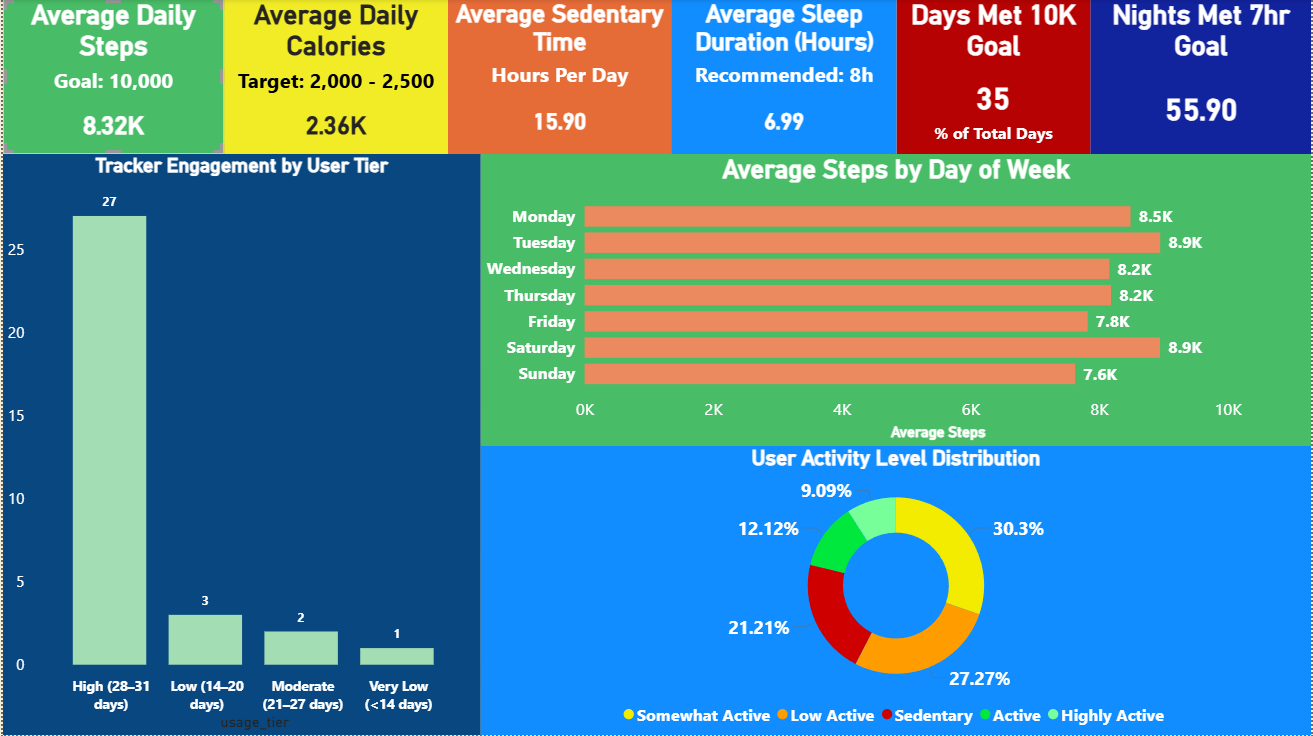

The page's visual inventory and layout, read from the dashboard file:
{"tool":"powerbi","page":{"name":"Executive Overview","canvas":[1280,720],"ordinal":0},"visuals":[{"type":"card","title":"Average Daily Steps","fields":{"Values":["Avg(activity_summary.avg_daily_steps)"]},"box":[0,0,216.4,151.6],"z":0},{"type":"card","title":"Average Daily Calories","fields":{"Values":["Avg(activity_summary.avg_daily_calories)"]},"box":[216.4,0,218.9,151.6],"z":1000},{"type":"card","title":"Average Sedentary Time","fields":{"Values":["Sum(activity_summary.avg_sedentary_hours)"]},"box":[435.3,0,218.9,151.6],"z":2000},{"type":"card","title":"Average Sleep Duration (Hours)","fields":{"Values":["Avg(sleep_summary.avg_sleep_hours)"]},"box":[654.2,0,220.1,151.6],"z":3000},{"type":"card","title":"Days Met 10K Goal","fields":{"Values":["Sum(activity_summary.pct_days_met_10k_goal)"]},"box":[874.3,0,189.5,151.6],"z":4000},{"type":"card","title":"Nights Met 7hr Goal","fields":{"Values":["Avg(sleep_summary.pct_met_7hr_goal)"]},"box":[1063.9,0,216.4,151.6],"z":5000},{"type":"clusteredBarChart","title":"Average Steps by Day of Week","fields":{"Category":["average_steps_by_day_of_week.DayOfWeek"],"Y":["Sum(average_steps_by_day_of_week.avg_steps)"]},"box":[467.1,151.6,813.2,284.9],"z":6000},{"type":"donutChart","title":"User Activity Level Distribution","fields":{"Category":["activity_level_distribution.activity_level"],"Y":["Sum(activity_level_distribution.user_count)"]},"box":[467.1,436.6,813.2,283.7],"z":7000},{"type":"clusteredColumnChart","title":"Tracker Engagement by User Tier","fields":{"Category":["usage_tier_distribution.usage_tier"],"Y":["Sum(usage_tier_distribution.user_count)"]},"box":[0,151.6,467.1,568.6],"z":8000}]}

Visuals, with their boxes in screenshot pixels (x1, y1, x2, y2), scaled from the page's 1280x720 canvas onto the 1313x736 screenshot:
"Average Daily Steps" card: l=0, t=0, r=222, b=155
"Average Daily Calories" card: l=222, t=0, r=447, b=155
"Average Sedentary Time" card: l=447, t=0, r=671, b=155
"Average Sleep Duration (Hours)" card: l=671, t=0, r=897, b=155
"Days Met 10K Goal" card: l=897, t=0, r=1091, b=155
"Nights Met 7hr Goal" card: l=1091, t=0, r=1312, b=155
"Average Steps by Day of Week" clusteredBarChart: l=479, t=155, r=1312, b=446
"User Activity Level Distribution" donutChart: l=479, t=446, r=1312, b=735
"Tracker Engagement by User Tier" clusteredColumnChart: l=0, t=155, r=479, b=735
